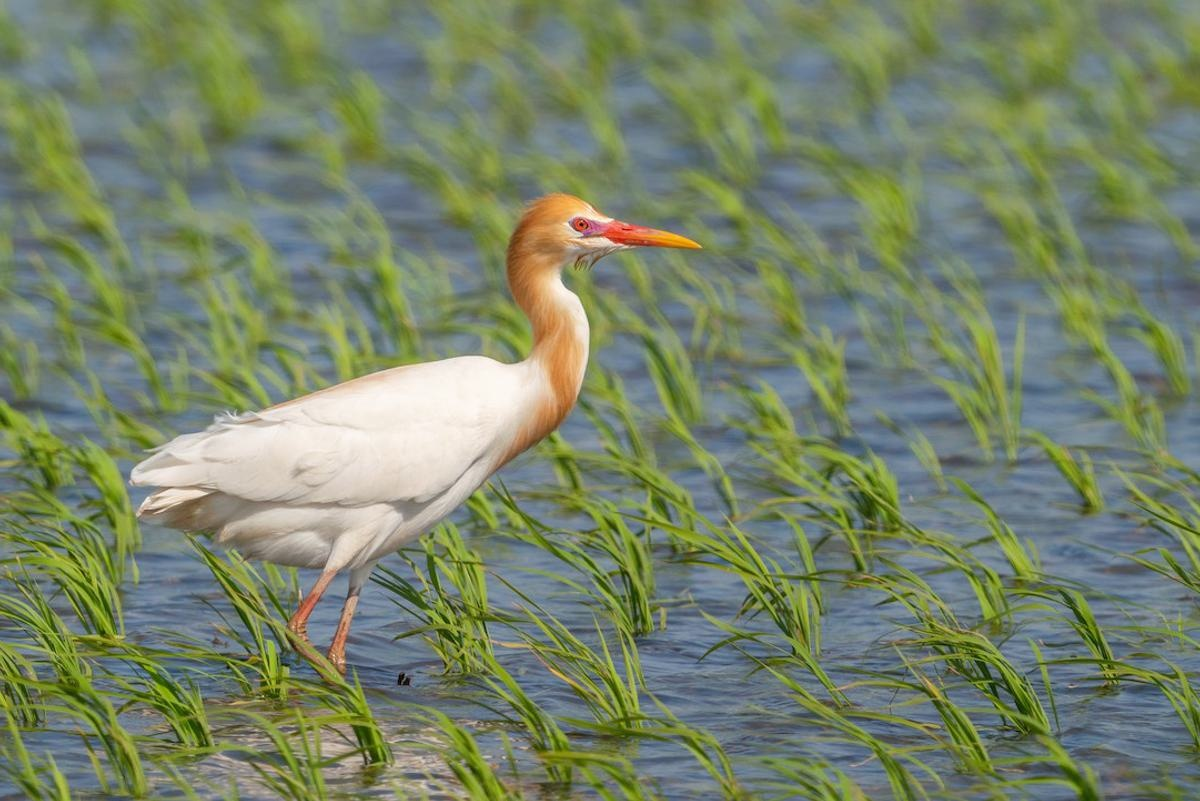egret: (177, 185, 700, 695)
